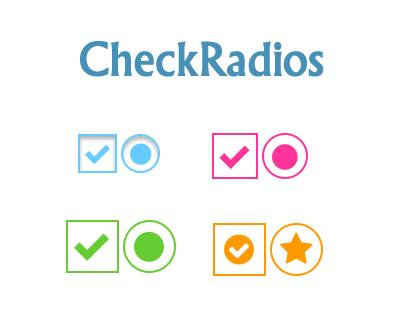checkbox: (58, 216, 122, 278), (206, 220, 269, 282), (210, 130, 262, 185), (68, 129, 119, 177)
radiobutton: (268, 219, 328, 284), (121, 217, 180, 273), (261, 125, 311, 186), (119, 128, 164, 179)
